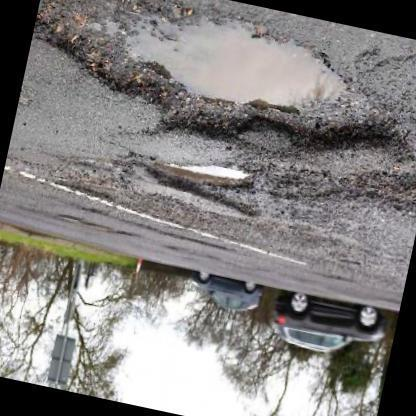pothole: (29, 0, 407, 162), (260, 154, 416, 216), (138, 148, 252, 198)
